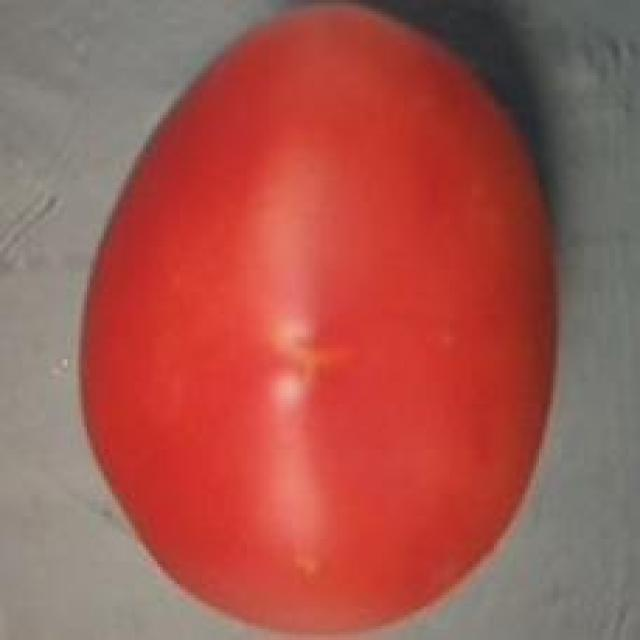ripe tomato: (76, 0, 567, 640)
